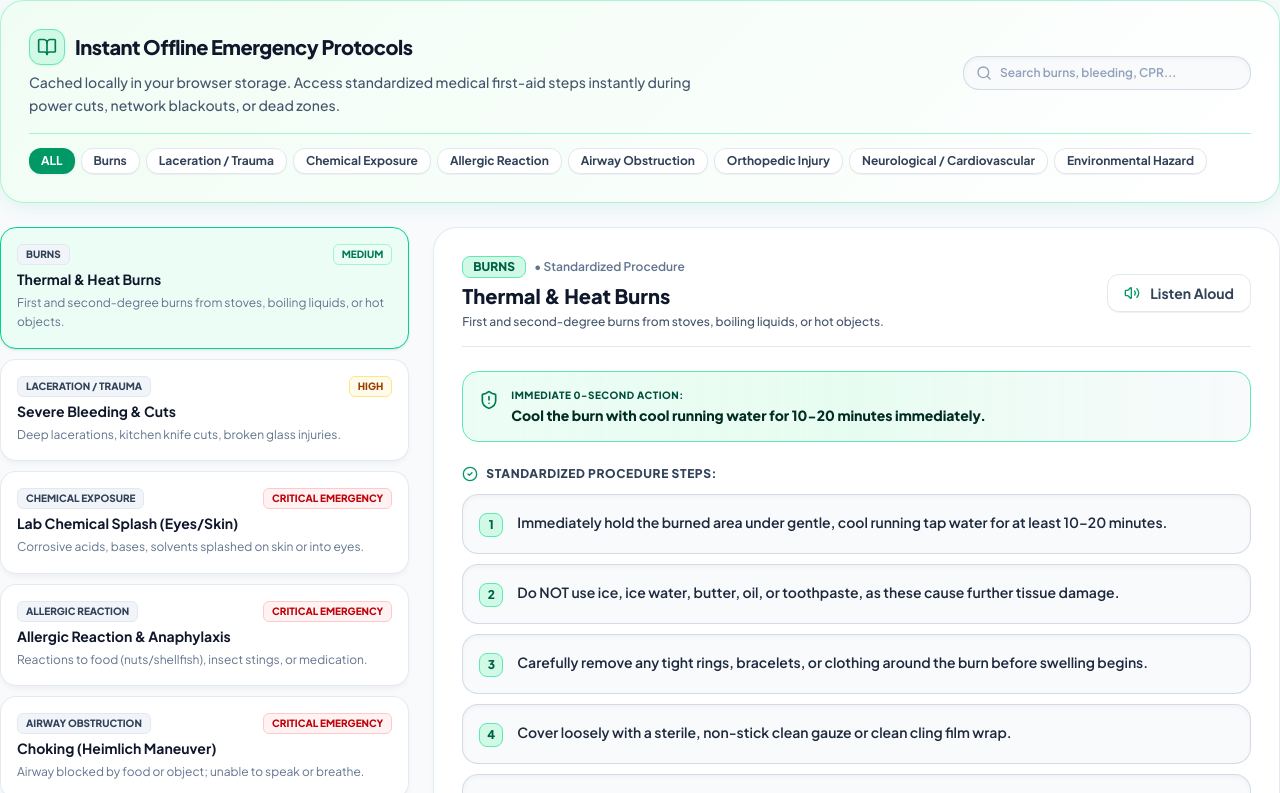
Test: OfflineProtocolsView Component › filters protocols dynamically based on search query
Type "Sprains" into the field with placeholder "Search burns, bleeding, CPR..." at (1119, 73), box [1000,65,1238,81]
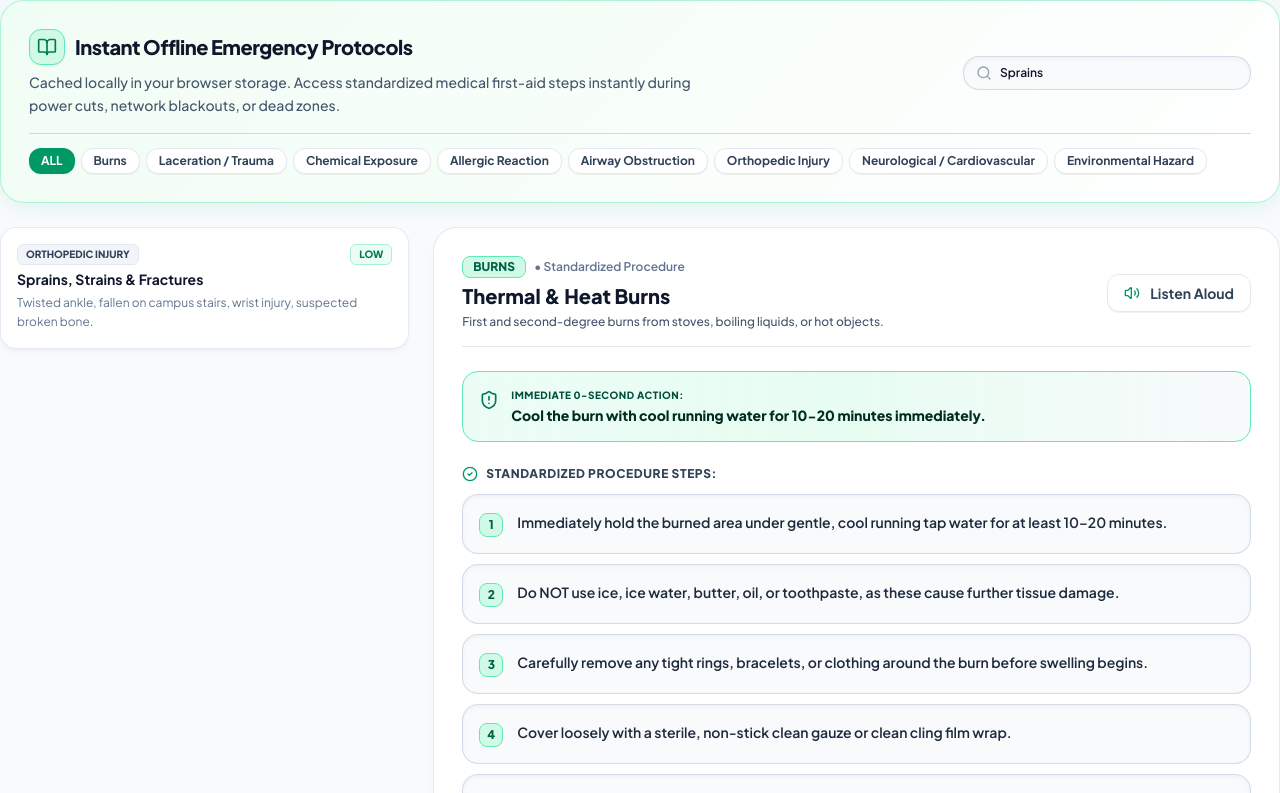
Expected: the heading "Sprains, Strains & Fractures" is shown, [17,270,203,288]
